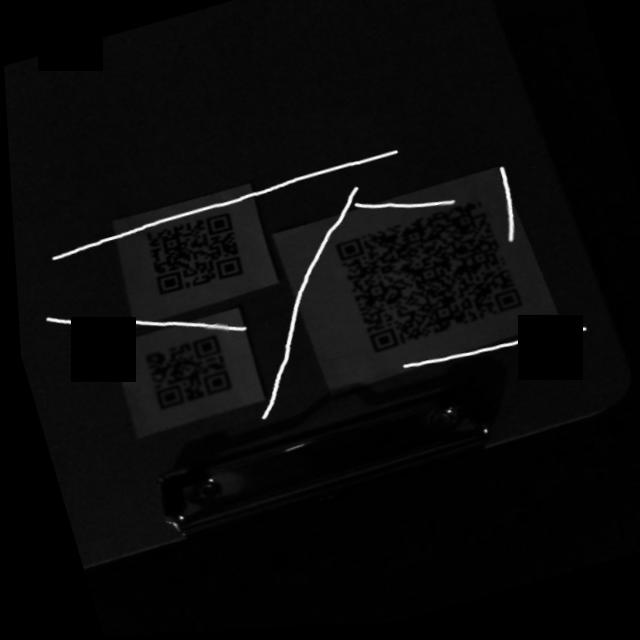QR_CODE: (321, 190, 540, 376), (121, 196, 258, 313), (128, 322, 245, 426)
